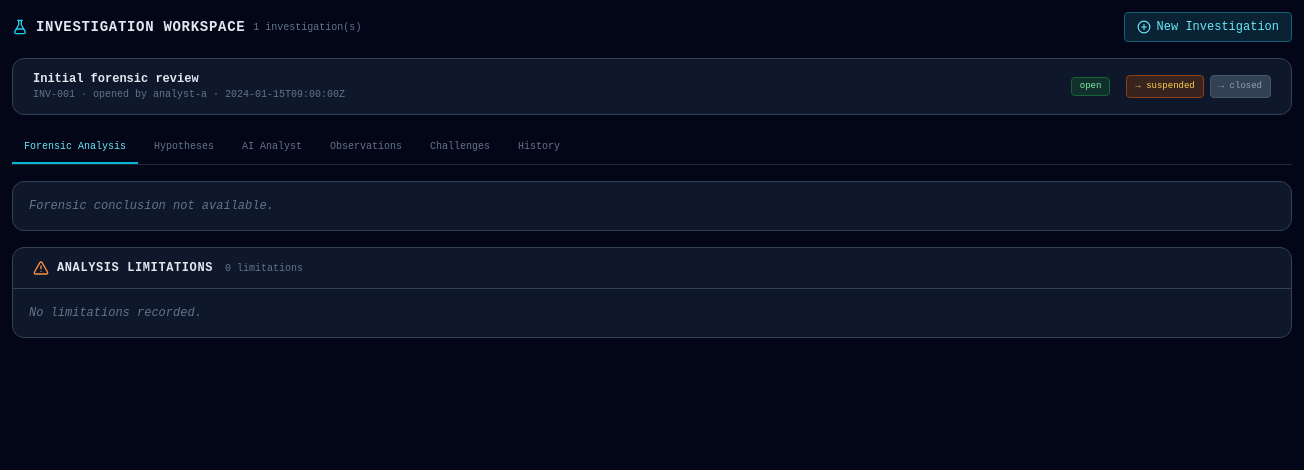
InvestigationWorkspace › switches to AI analyst tab on click
Click the button with test id "tab-ai".
click(272, 148)  # box left=230, top=131, right=314, bottom=164
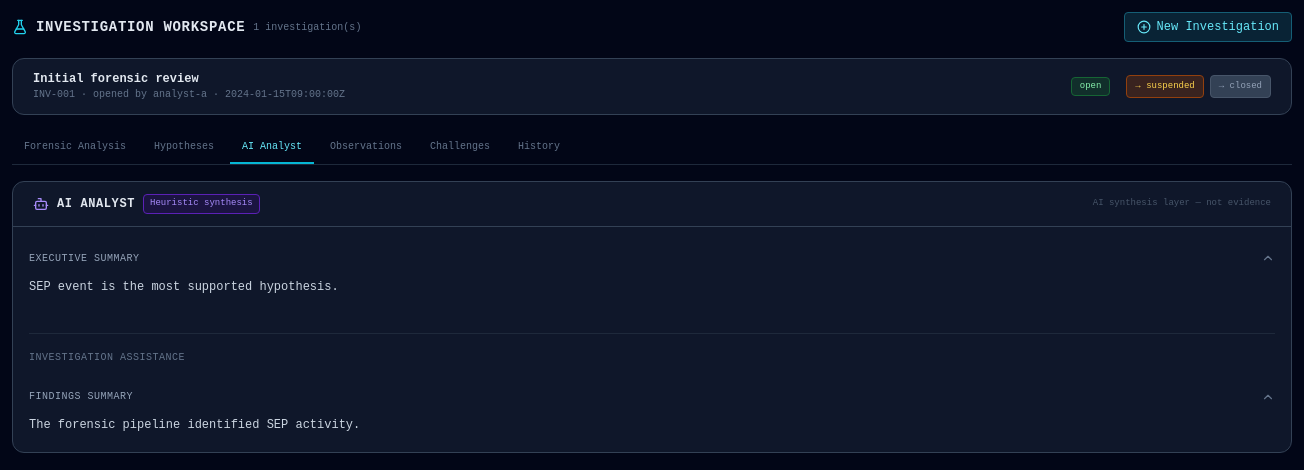
Expected: the element with test id "tab-content-ai" is shown, left=12, top=181, right=1292, bottom=452
